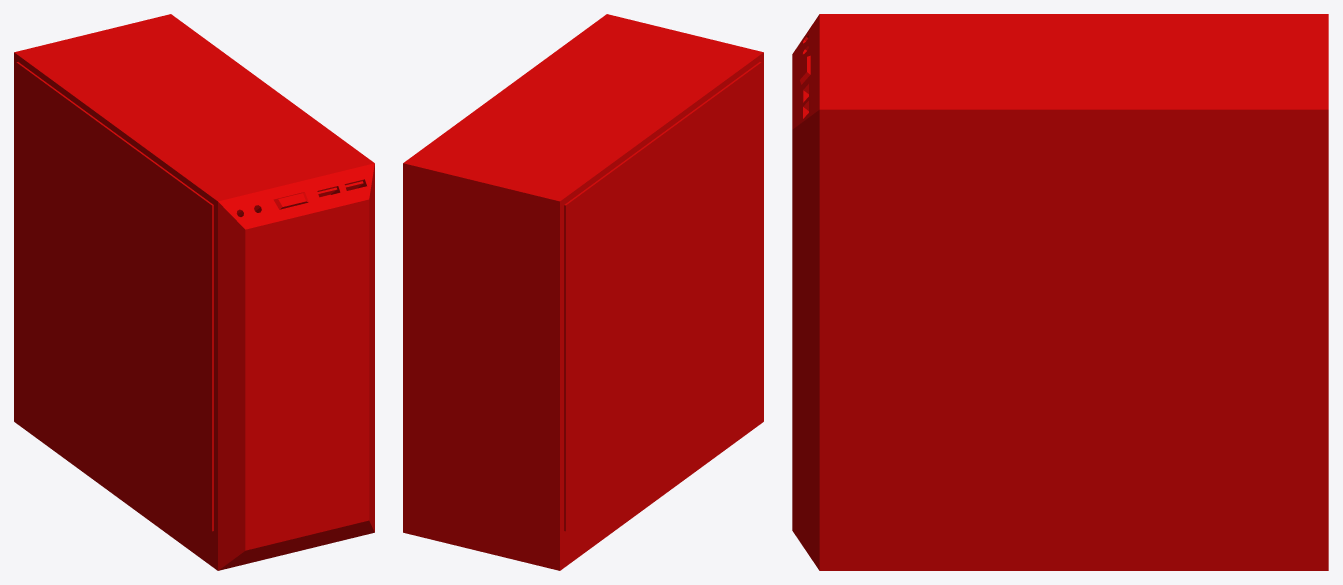
File: Computer_Full_FBX.fbx
3 views of the same model, side by side, from view 1: azimuth 30°, elevation 25°; view 2: azimuth 150°, elevation 25°; view 3: azimuth 270°, elevation 25° (orthographic). The views are drawn at different scales.
Visible parts, largest first — view 1: Computer; view 2: Computer; view 3: Computer.
Boxes of the visible parts, x1=… form: Computer: x1=14, y1=14, x2=374, y2=570; Computer: x1=403, y1=14, x2=763, y2=570; Computer: x1=792, y1=14, x2=1328, y2=570.
Bounding box in the file's own units: 117 × 260 × 273.
